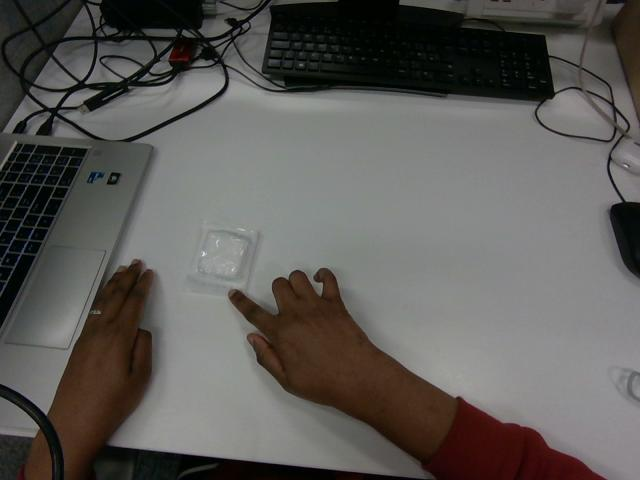gauze: (186, 222, 257, 294)
